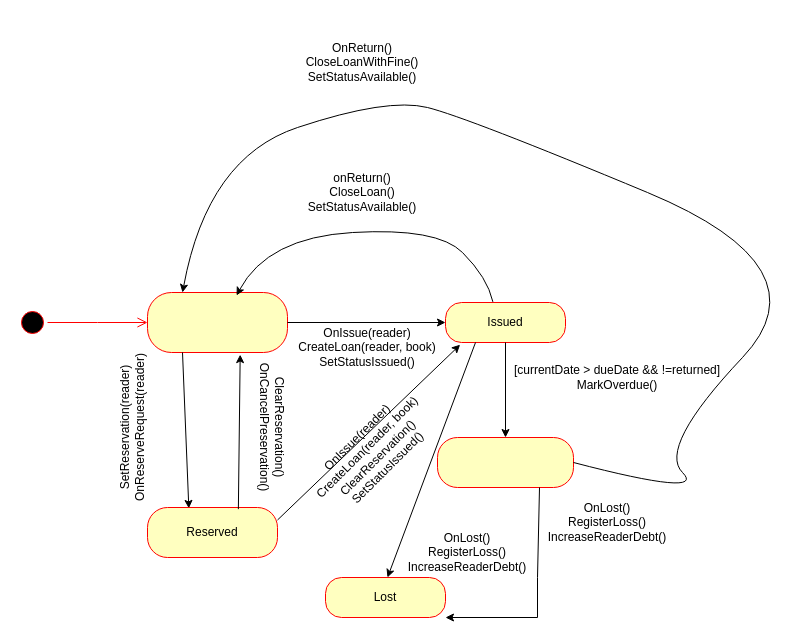
This 788x643 diagram has some shape labels left out. Each missing label, with the centre of its shape:
"inCatalogAvailable" belongs at (x=217, y=322).
"Overdue" belongs at (x=505, y=462).
